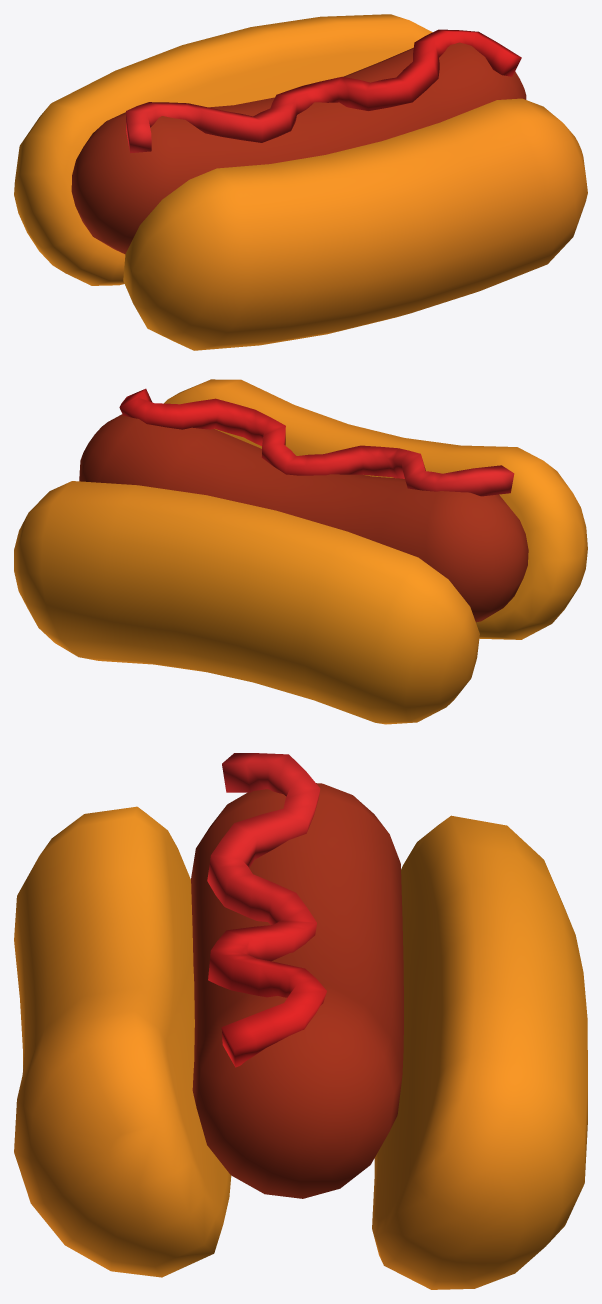
The model's file is Hotdogwithketchup.fbx.
The picture shows the model from 3 angles, top to bottom: view 1: azimuth 30°, elevation 25°; view 2: azimuth 150°, elevation 25°; view 3: azimuth 270°, elevation 25°; orthographic projection. The views are drawn at different scales.
Parts seen in each view (by area): view 1: hotdog; view 2: hotdog; view 3: hotdog.
Boxes of the visible parts, x1=… form: hotdog: x1=14, y1=14, x2=587, y2=350; hotdog: x1=14, y1=379, x2=587, y2=724; hotdog: x1=14, y1=753, x2=587, y2=1289.
Size of the model in its own units: 0.3454 by 0.1613 by 0.2714.
